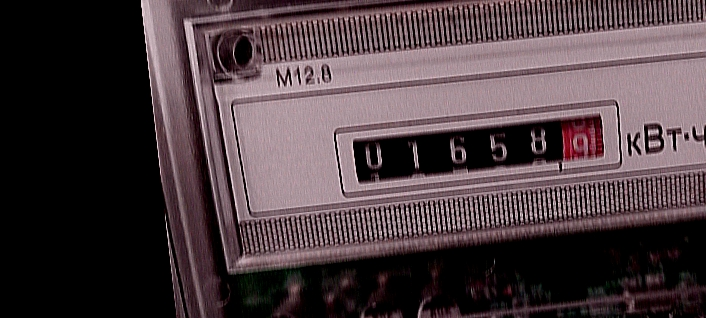0: (364, 137, 388, 169)
1: (407, 136, 428, 169)
5: (489, 128, 514, 161)
6: (449, 130, 473, 165)
8: (530, 121, 553, 155)
9: (571, 130, 595, 160)
screen: (326, 88, 634, 204)
